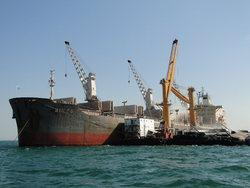Cargoship: (10, 37, 227, 149)
